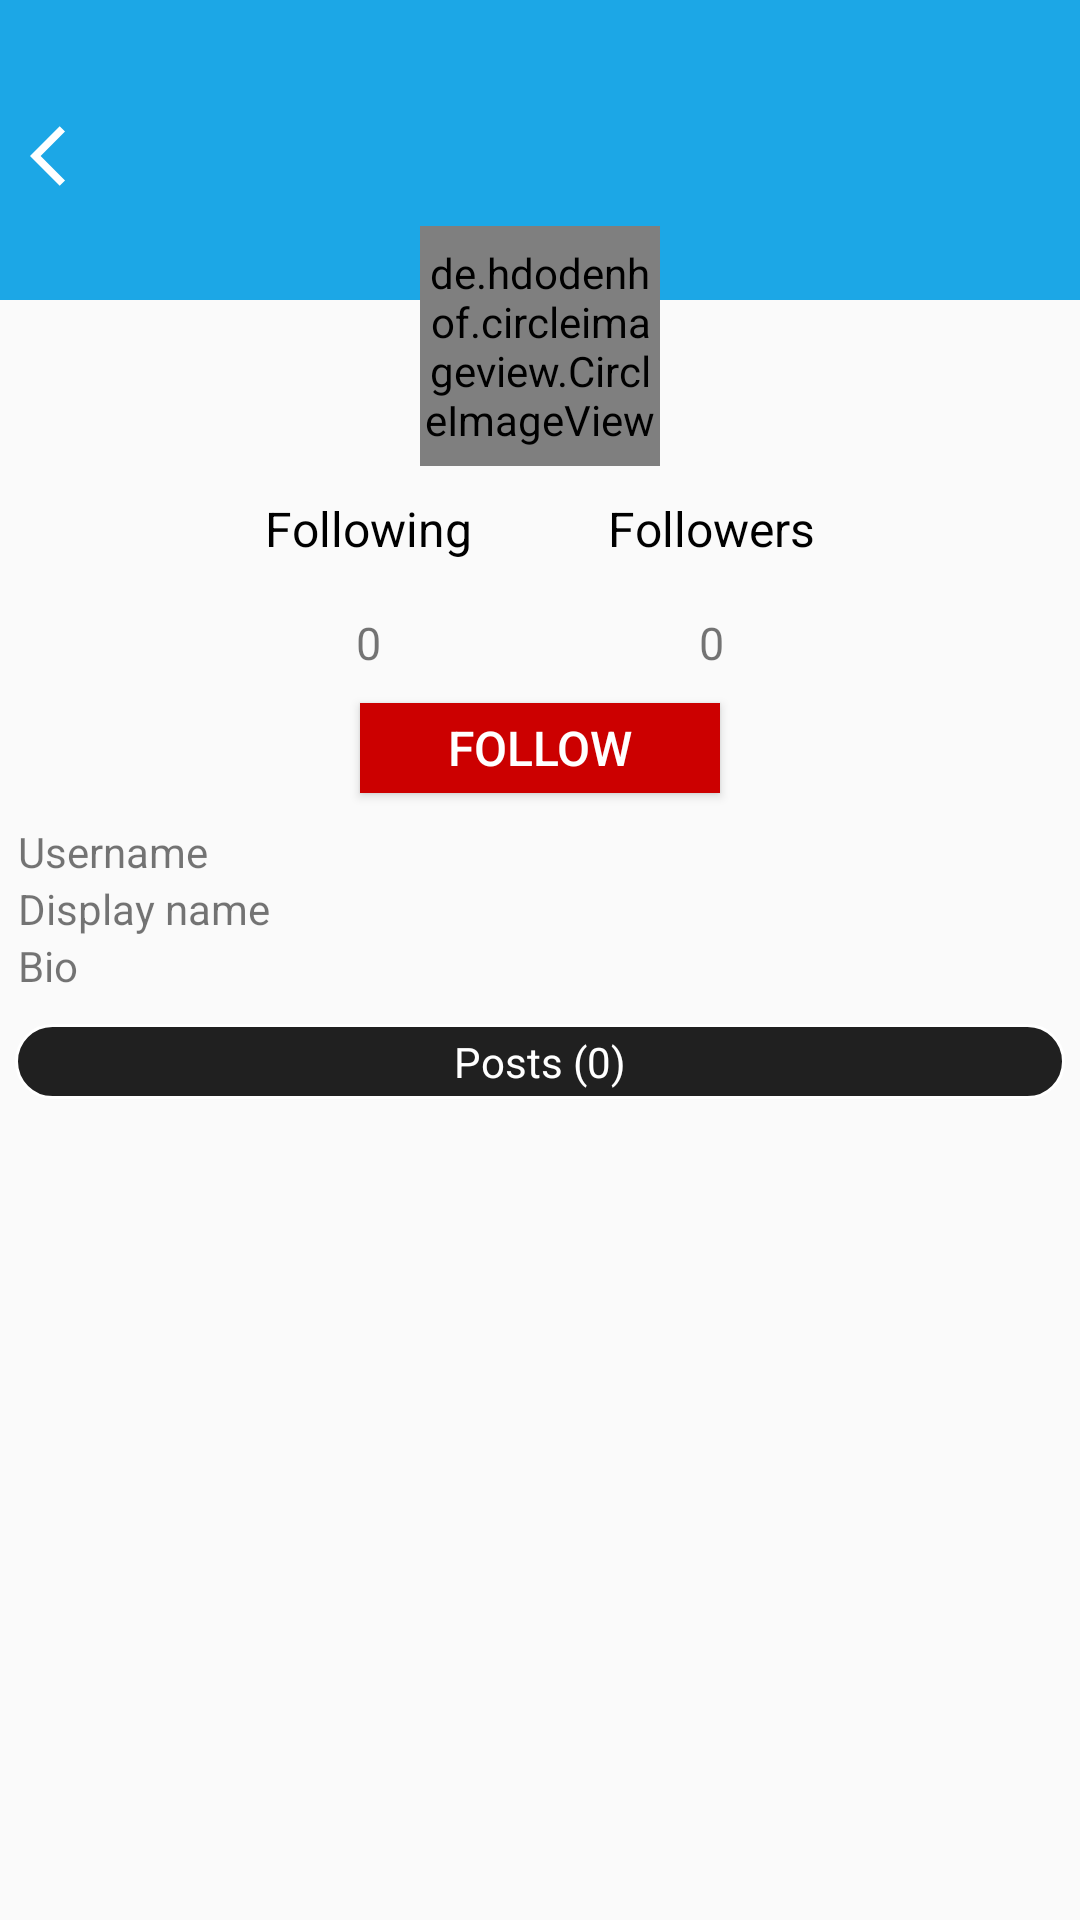

Screen size 1080x1920. Icon name, then its center in pixels as [x,y]:
back: [47,156]
